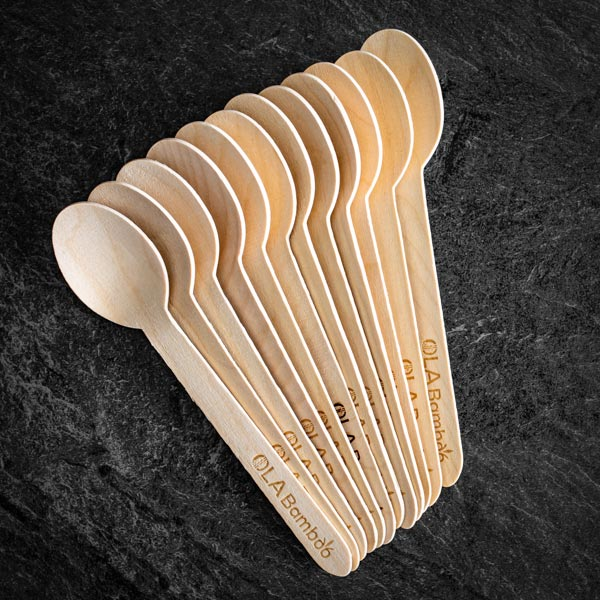Wooden Utensils: (57, 35, 453, 554)
